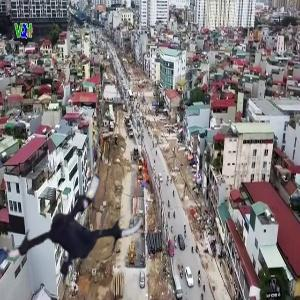drone: (2, 151, 149, 298)
